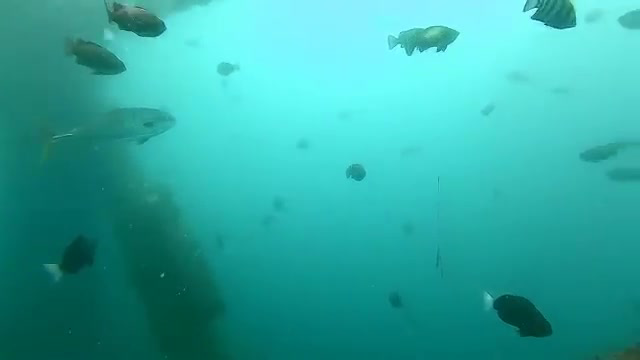hamati: (27, 101, 186, 163)
smallfish: (476, 283, 563, 344), (62, 33, 146, 94), (44, 227, 104, 284), (382, 21, 470, 58), (106, 2, 167, 42), (523, 1, 584, 33), (342, 163, 371, 188)
